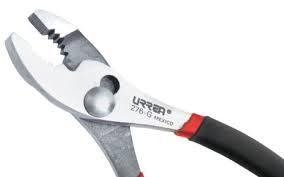pliers: (3, 7, 283, 176)
